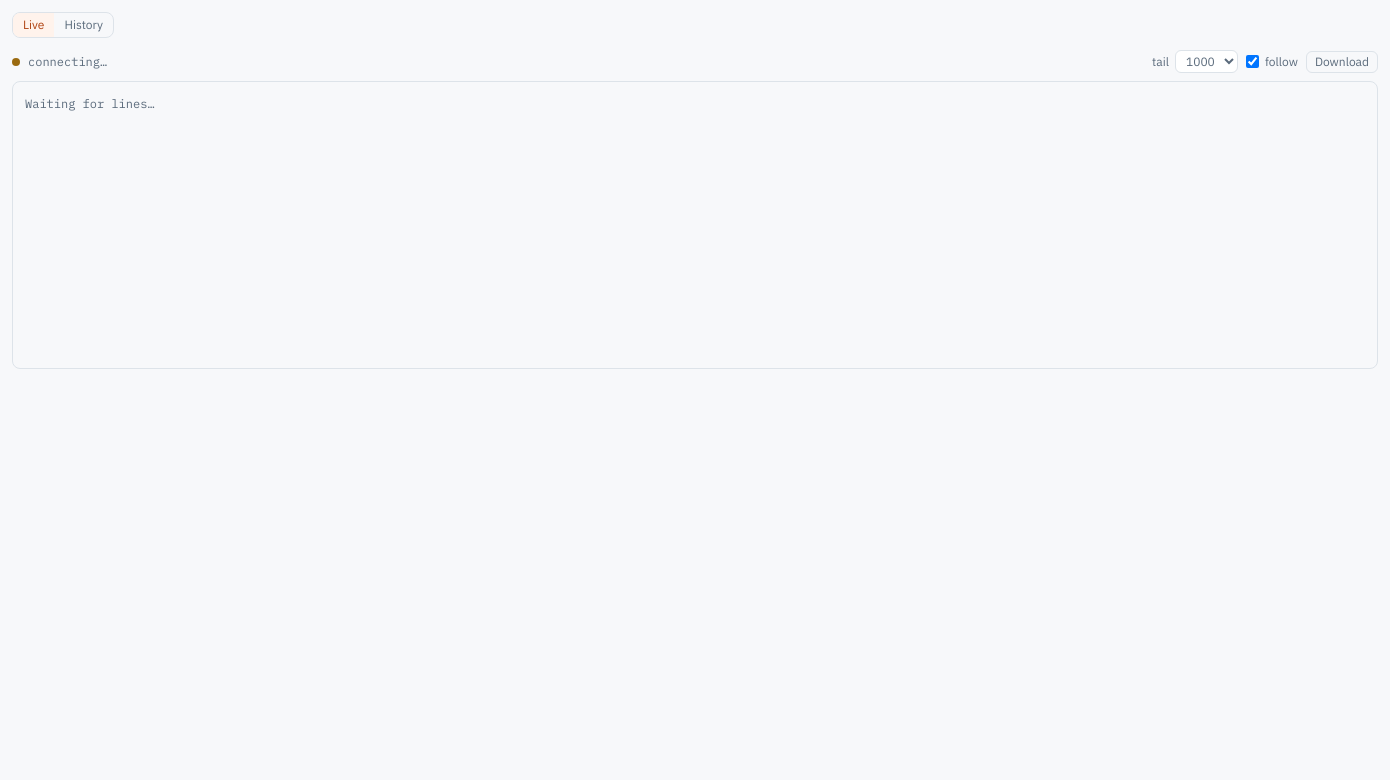
it: LogsPanel: «показать ещё» больше не глотает отказ молча › 403 на второй странице → ErrorNote с честной причиной, уже показанные строки на месте
Click the button "History": (84, 25) [54,13,113,37]
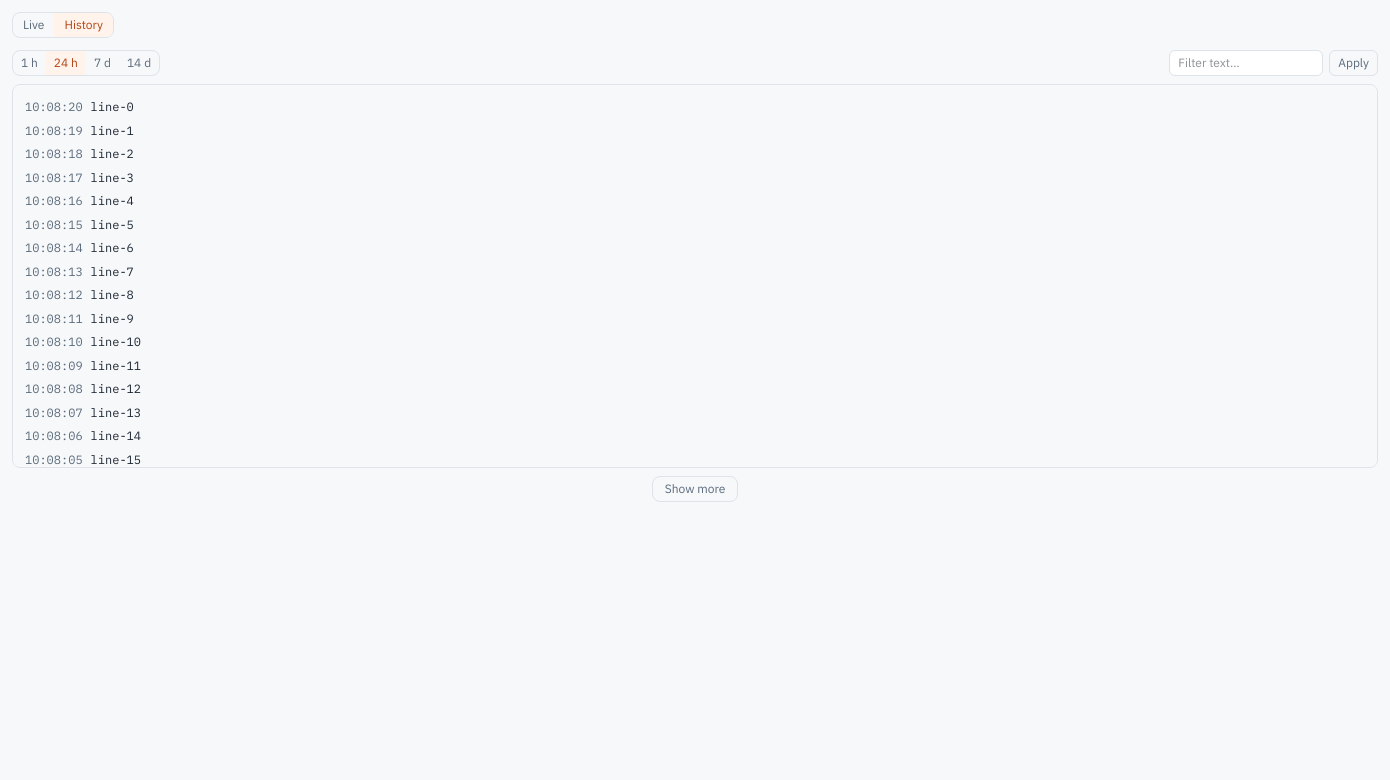
Check: the text "line-0" is shown, box [91,99,134,114]
Click the button "Show more": (695, 489) [652,476,738,502]
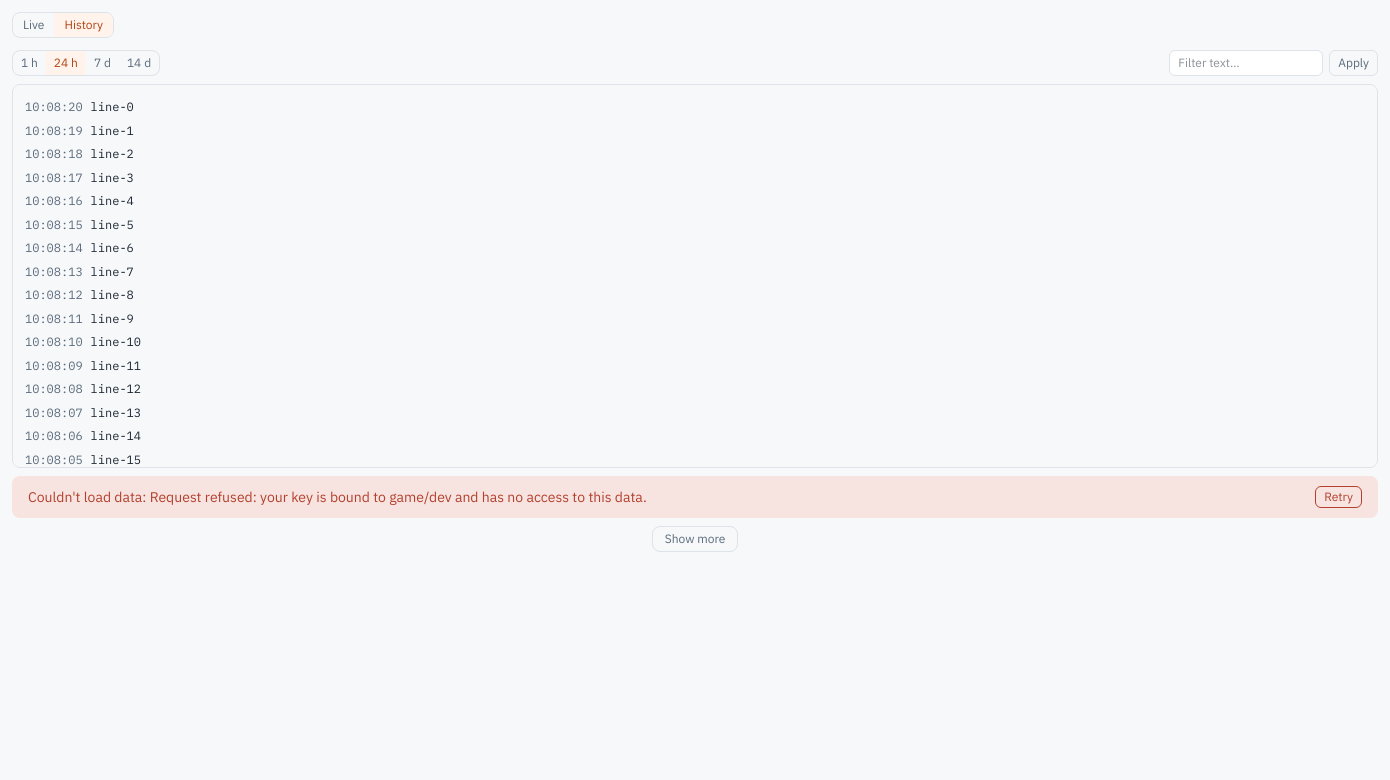
Check: the text "line-0" is shown, box [91,99,134,114]
Check: the text "your key is bound to game/dev" is shown, box [28,488,647,506]
